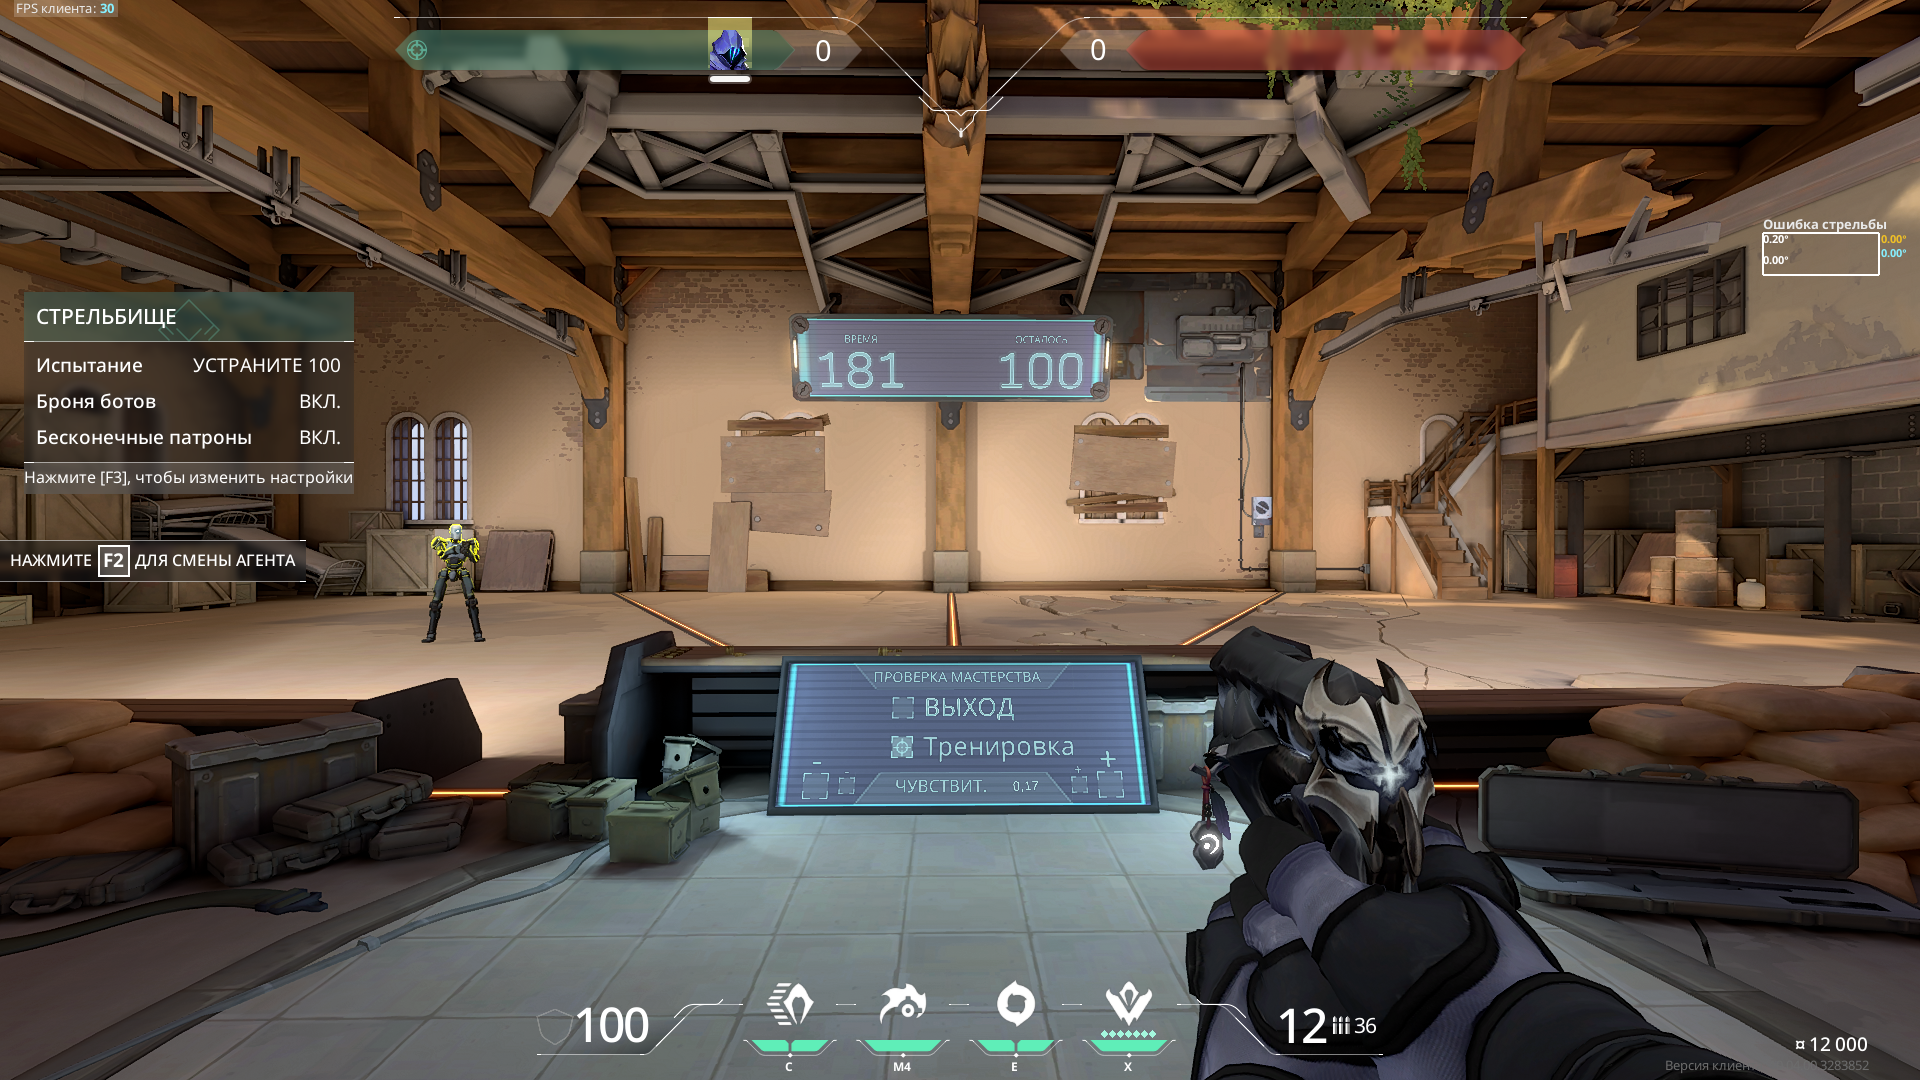head: (449, 524, 462, 540)
